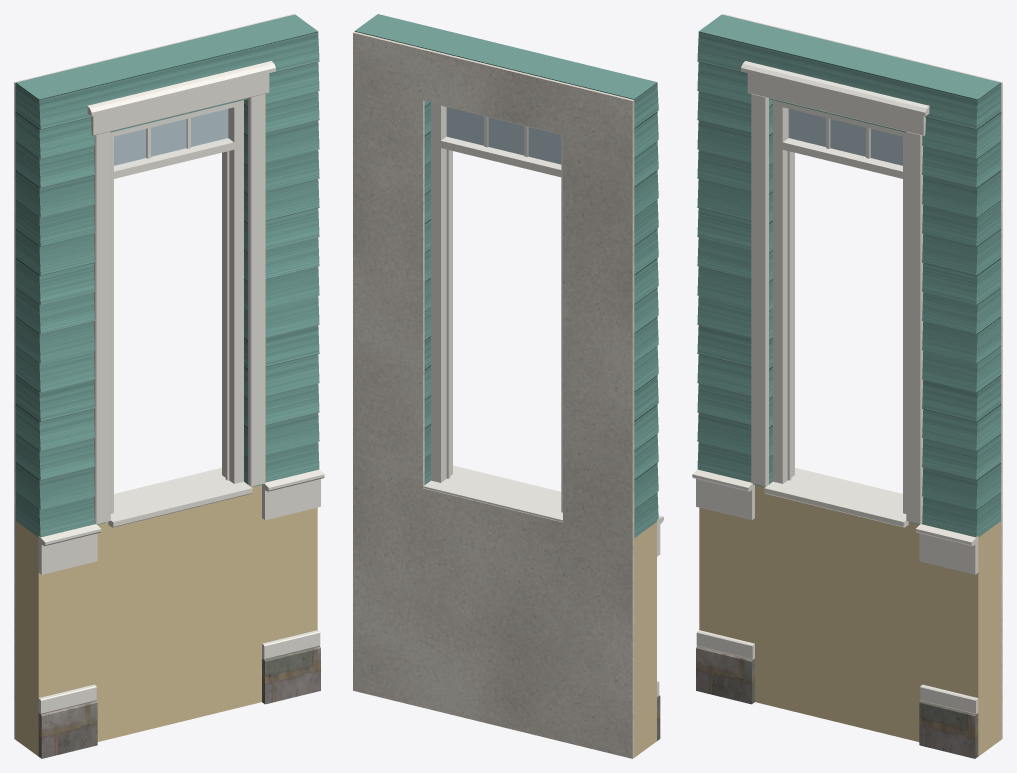
Rendered from b_g_door_c.glb.
3 renders of one model, left to right at view 1: azimuth 30°, elevation 25°; view 2: azimuth 150°, elevation 25°; view 3: azimuth 330°, elevation 25°, orthographic.
Visible parts, largest first — view 1: b_g_door_c_siding_c, b_g_door_c_acc_c, b_g_door_c_trim, b_g_door_c_frame, b_g_door_c_plinth, b_g_door_c_glass, b_g_door_c_plaster; view 2: b_g_door_c_plaster, b_g_door_c_siding_c, b_g_door_c_frame, b_g_door_c_acc_c, b_g_door_c_trim, b_g_door_c_glass; view 3: b_g_door_c_siding_c, b_g_door_c_acc_c, b_g_door_c_trim, b_g_door_c_frame, b_g_door_c_plinth, b_g_door_c_glass, b_g_door_c_plaster.
Boxes of the visible parts, left/top/right/bottom form: b_g_door_c_siding_c: left=16, top=14, right=319, bottom=537; b_g_door_c_acc_c: left=16, top=485, right=317, bottom=756; b_g_door_c_trim: left=38, top=61, right=324, bottom=713; b_g_door_c_frame: left=110, top=100, right=243, bottom=513; b_g_door_c_plinth: left=38, top=646, right=320, bottom=758; b_g_door_c_glass: left=114, top=109, right=228, bottom=165; b_g_door_c_plaster: left=14, top=14, right=293, bottom=739; b_g_door_c_plaster: left=353, top=31, right=634, bottom=758; b_g_door_c_siding_c: left=354, top=14, right=658, bottom=537; b_g_door_c_frame: left=431, top=102, right=562, bottom=512; b_g_door_c_acc_c: left=634, top=522, right=656, bottom=757; b_g_door_c_trim: left=423, top=465, right=663, bottom=696; b_g_door_c_glass: left=446, top=107, right=561, bottom=164; b_g_door_c_siding_c: left=697, top=14, right=1000, bottom=537; b_g_door_c_acc_c: left=699, top=485, right=1000, bottom=756; b_g_door_c_trim: left=692, top=61, right=978, bottom=713; b_g_door_c_frame: left=773, top=100, right=906, bottom=513; b_g_door_c_plinth: left=696, top=646, right=978, bottom=758; b_g_door_c_glass: left=788, top=109, right=902, bottom=165; b_g_door_c_plaster: left=723, top=14, right=1002, bottom=739.
Size of the model in its own units: 2 by 4.5 by 0.385.
7 materials, 3 textured.
